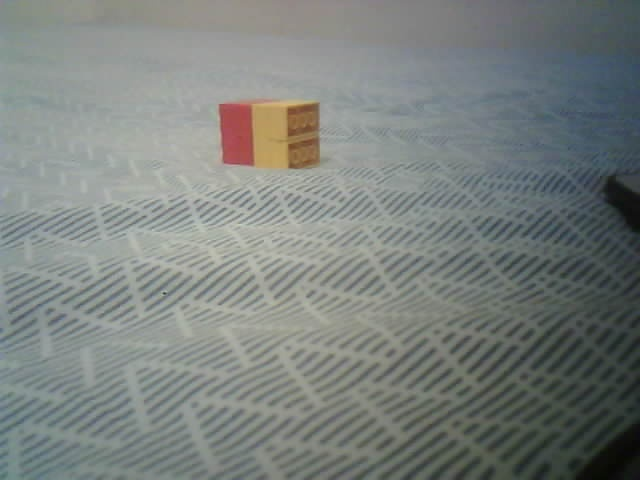lego: (216, 98, 323, 170)
